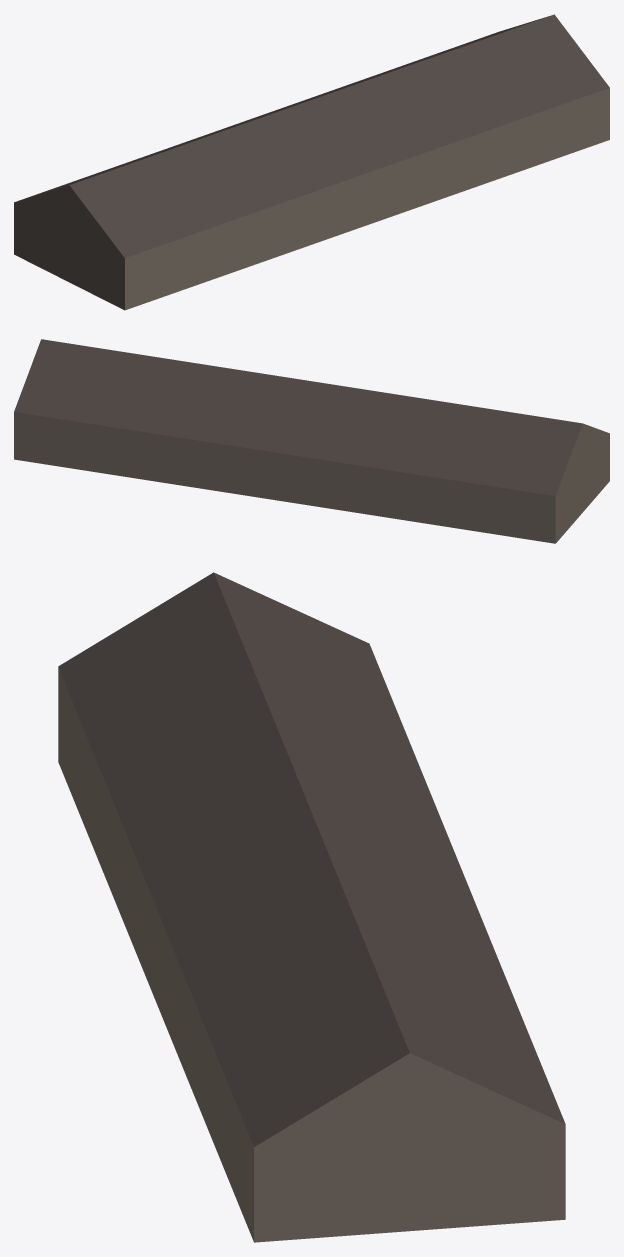
3 renders of one model, top to bottom at view 1: azimuth 30°, elevation 25°; view 2: azimuth 150°, elevation 25°; view 3: azimuth 270°, elevation 25°, orthographic. The views are drawn at different scales.
Visible parts, largest first — view 1: HP-w858807487; view 2: HP-w858807487; view 3: HP-w858807487.
Boxes of the visible parts, x1,y1,x2,y2 form: HP-w858807487: [14, 14, 609, 310]; HP-w858807487: [14, 339, 609, 543]; HP-w858807487: [58, 572, 565, 1242].
Bounding box in the file's own units: 34.01 × 5.61 × 14.48.
